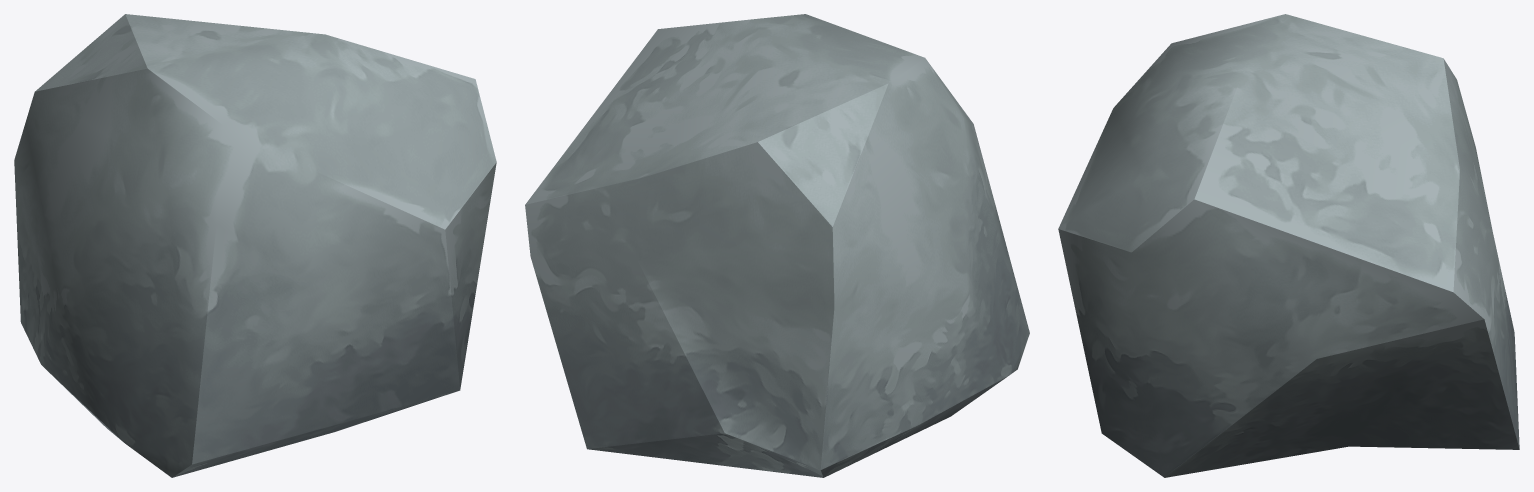
Rendered from kamien_1.obj.
3 views of the same model, side by side, from view 1: azimuth 30°, elevation 25°; view 2: azimuth 150°, elevation 25°; view 3: azimuth 270°, elevation 25° (orthographic). The views are drawn at different scales.
Parts seen in each view (by area): view 1: rock.004; view 2: rock.004; view 3: rock.004.
Part boxes in pixels (box(x1,y1,x2,y2)): rock.004: box(14, 14, 496, 477); rock.004: box(525, 14, 1029, 477); rock.004: box(1058, 14, 1519, 477).
Bounding box in the file's own units: 8.2 × 7.22 × 8.54.
Materials: 1 (1 with a texture image).
